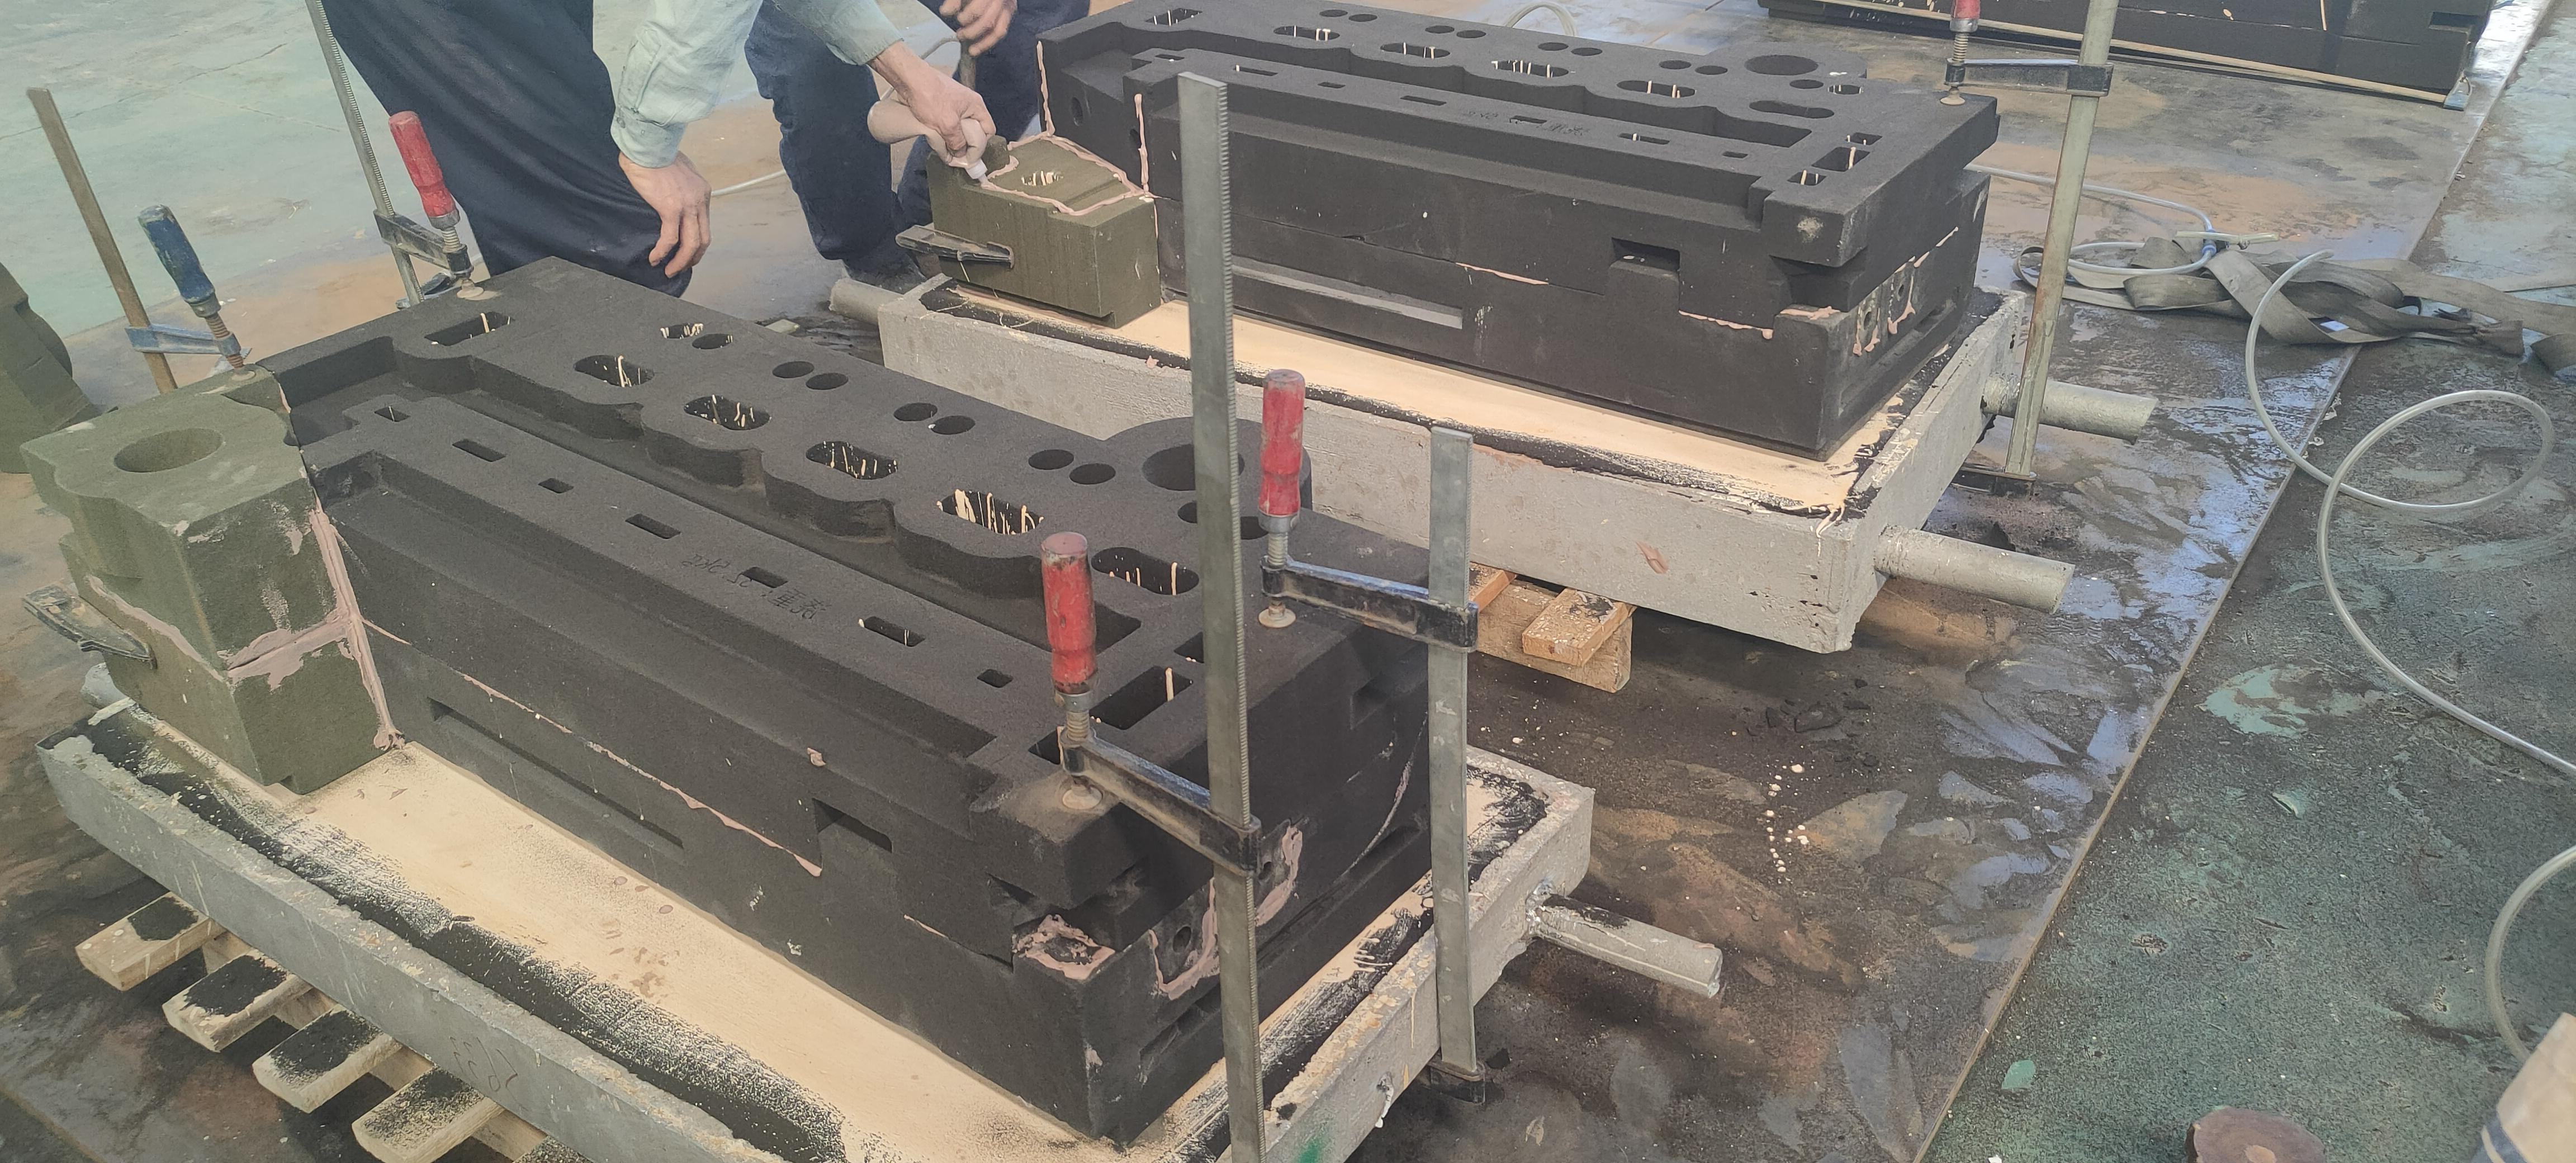pouring hole: (1140, 439, 1247, 493), (112, 425, 225, 475), (1741, 53, 1822, 77)
